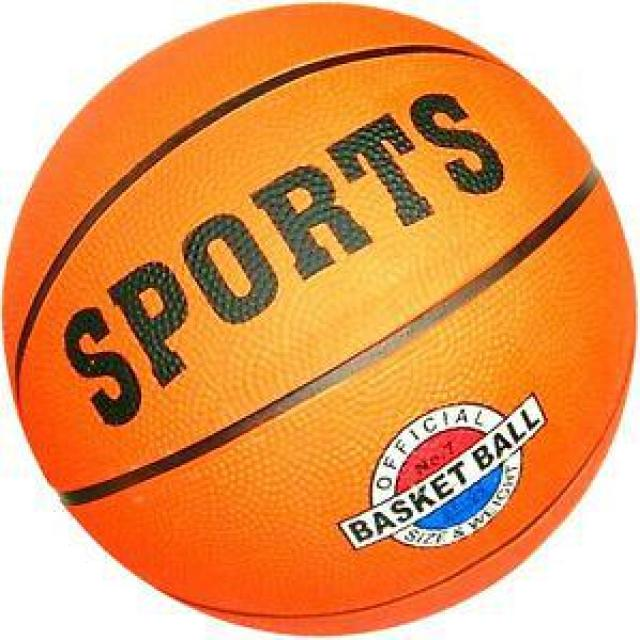ball: (1, 3, 635, 633)
